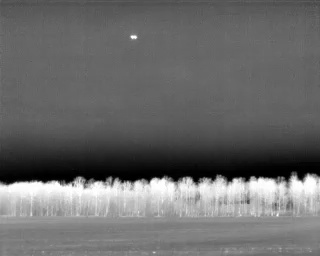DRONE: (127, 31, 141, 44)
